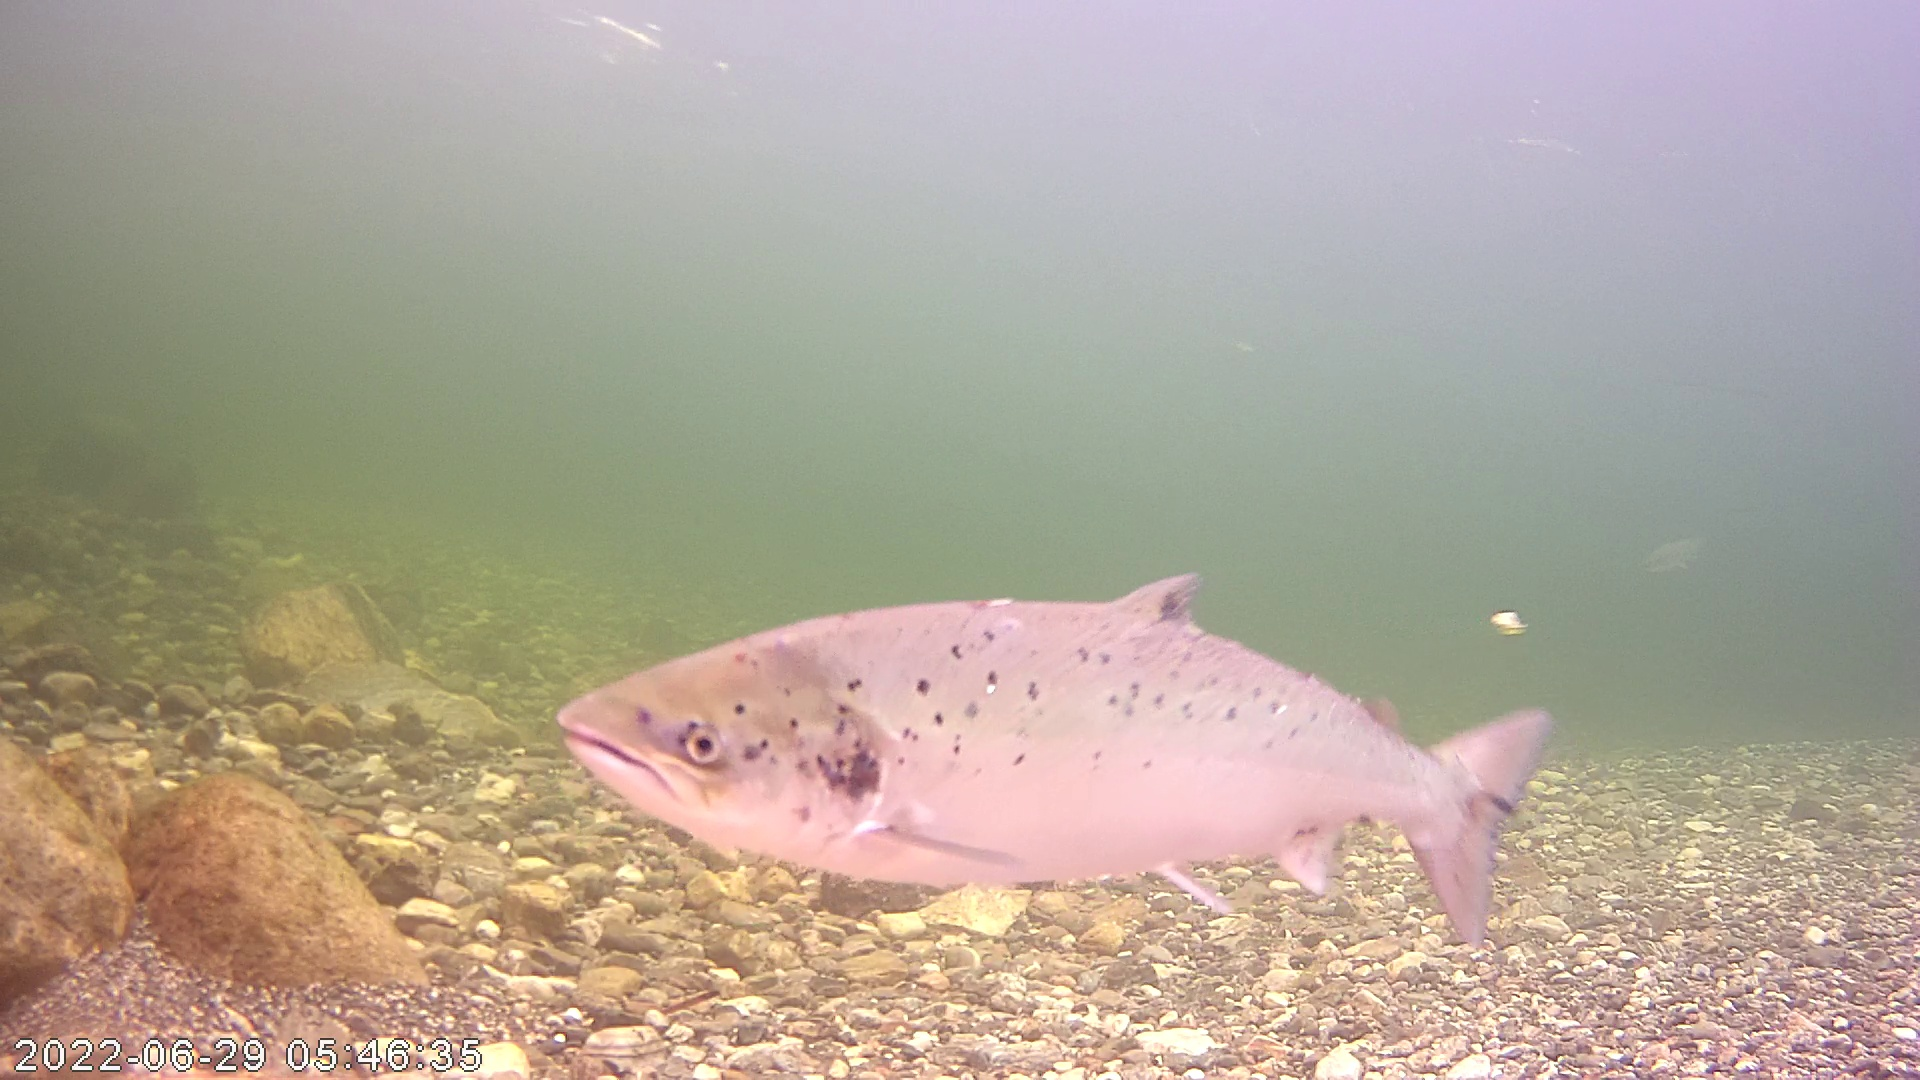salmon: (563, 440, 1563, 939)
